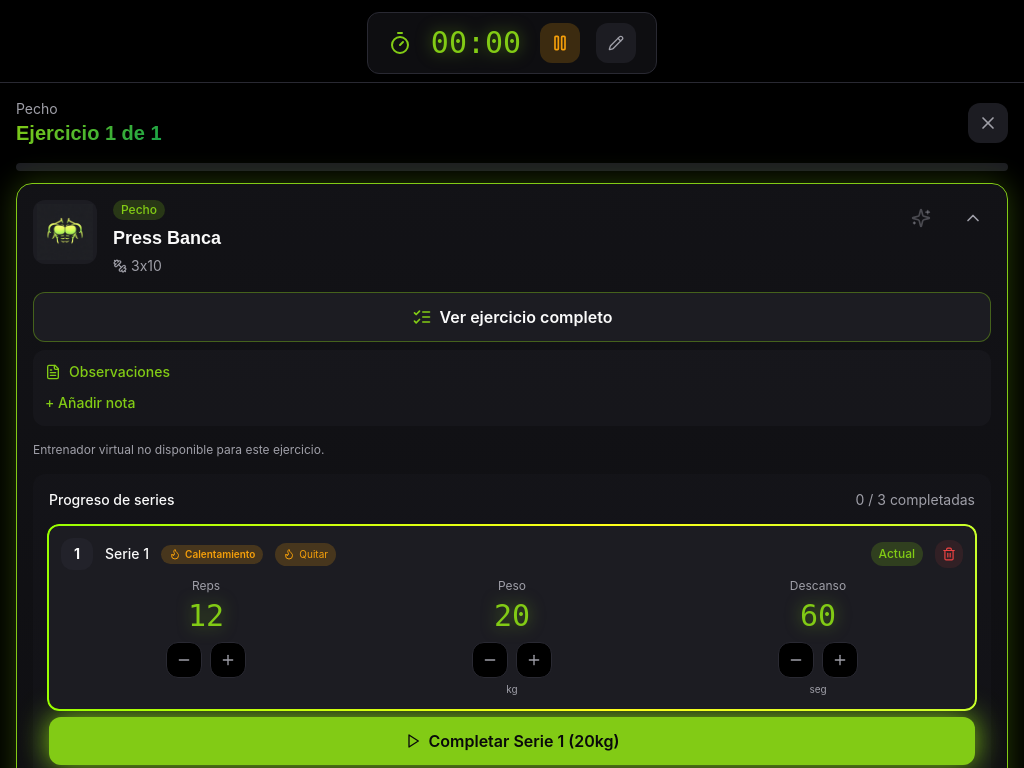
Test case: vista del ejercicio completo durante la ejecución › el temporizador sigue avanzando mientras la ventana está abierta
Click the button "Completar Serie 1 (20kg)". click: (512, 741)
box: [49, 717, 975, 765]
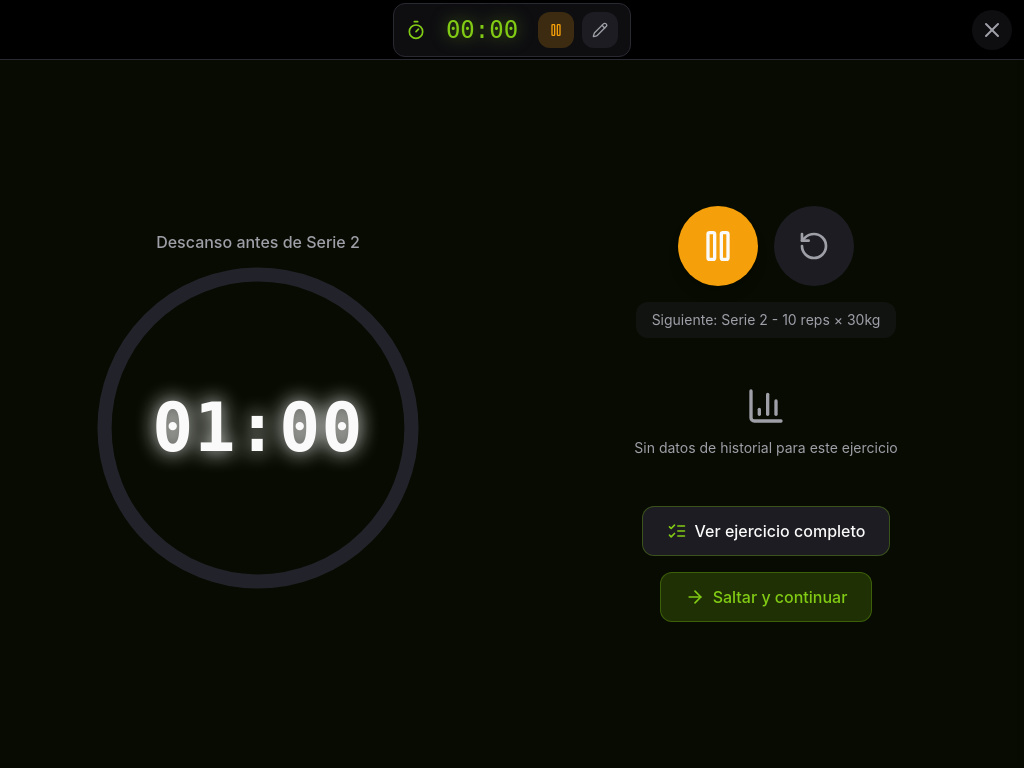
Click the button "Ver ejercicio completo". click: (766, 531)
box: [642, 506, 890, 556]
Wait 3000 ms
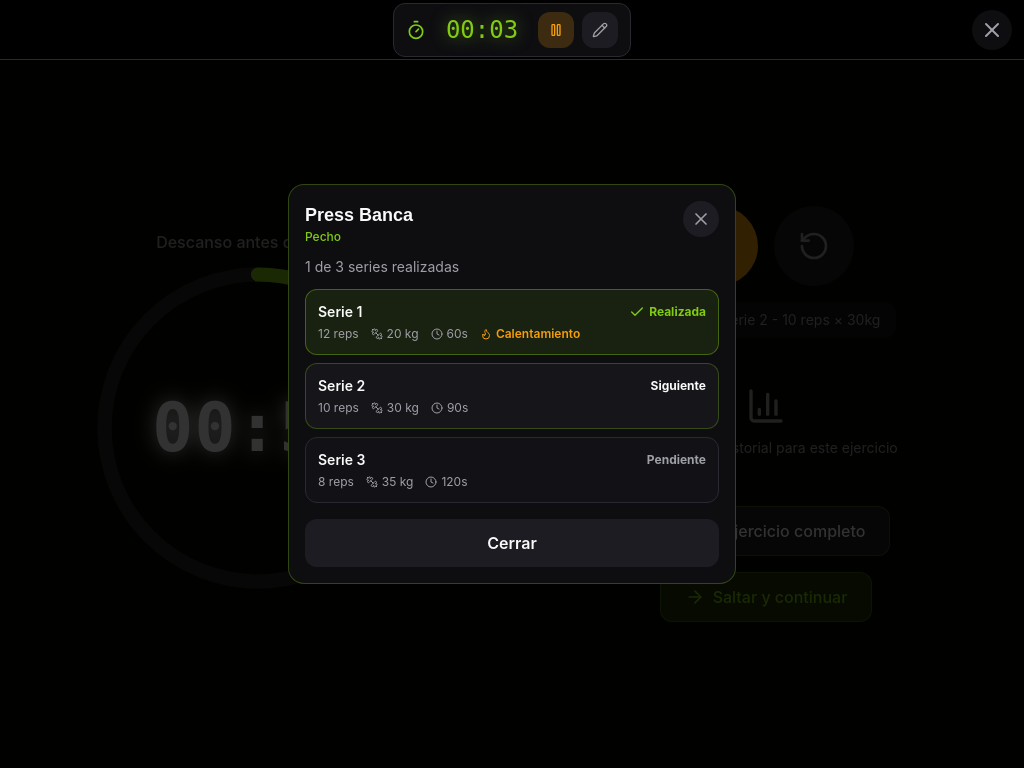
Expected: the button with class "font-lcd" no longer shows "00:00"
